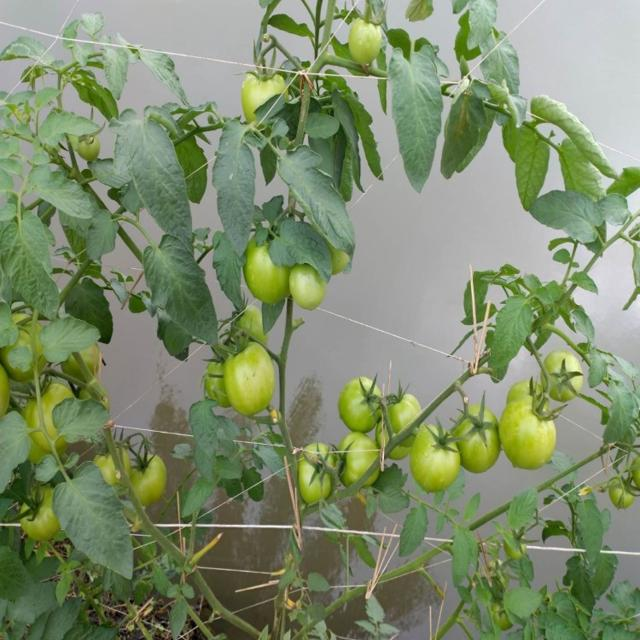tomato: (221, 337, 279, 420), (499, 395, 551, 470), (236, 245, 290, 312), (538, 352, 589, 407), (418, 423, 457, 487), (455, 413, 496, 473), (288, 266, 332, 320), (16, 491, 61, 543), (132, 448, 173, 505), (31, 378, 59, 461), (349, 14, 391, 67), (345, 377, 380, 432), (240, 64, 287, 102), (605, 485, 640, 517), (236, 306, 272, 336), (391, 384, 416, 425), (505, 379, 541, 406), (98, 448, 124, 483), (77, 135, 104, 161), (2, 366, 13, 423), (85, 346, 105, 374)
